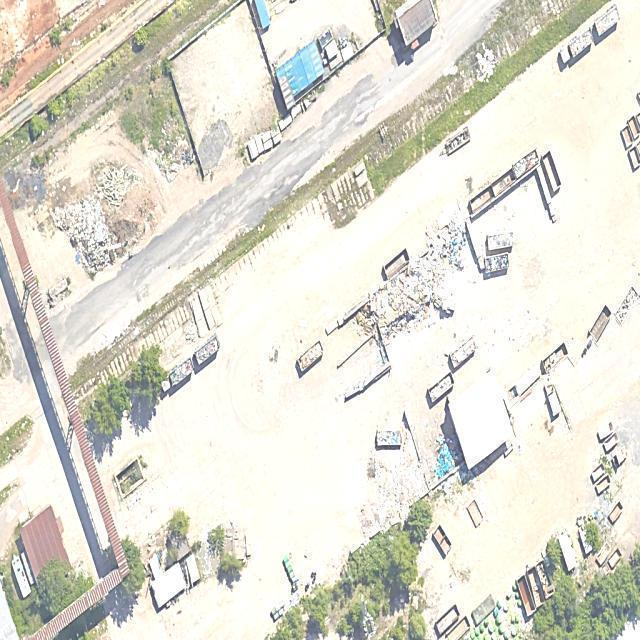dump_site: (342, 193, 494, 361), (48, 162, 148, 280)
